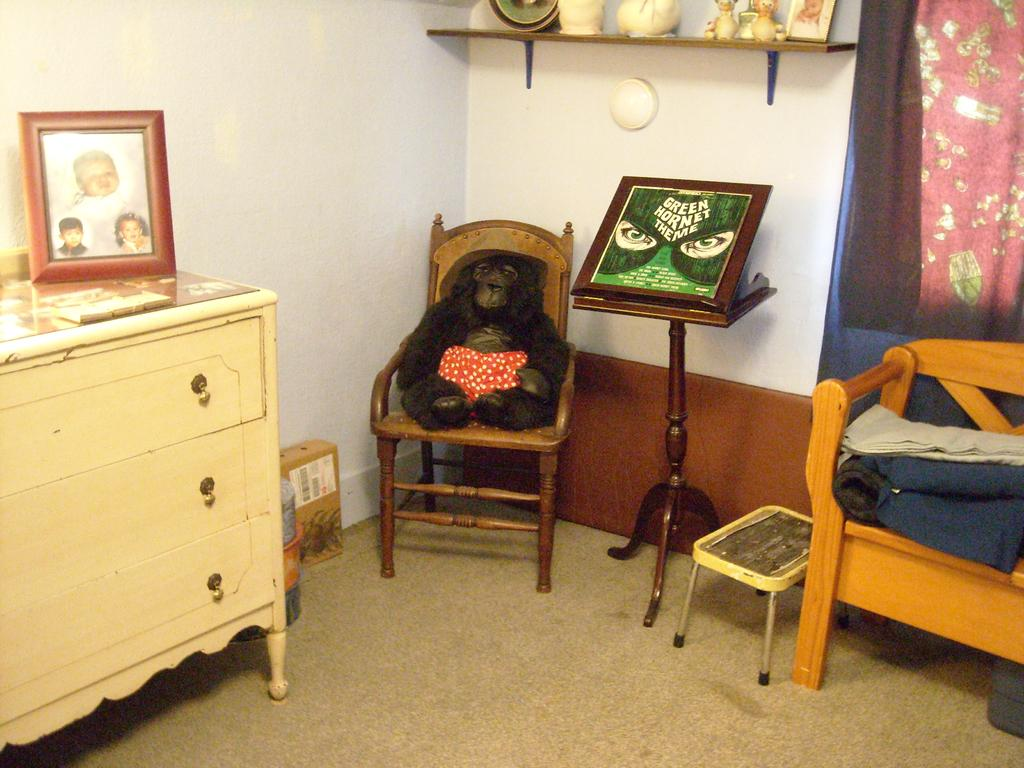cabinet_door: (20, 434, 259, 536), (33, 545, 265, 614), (2, 380, 256, 431)
handle: (194, 474, 222, 516), (187, 374, 216, 406), (202, 574, 226, 603)
